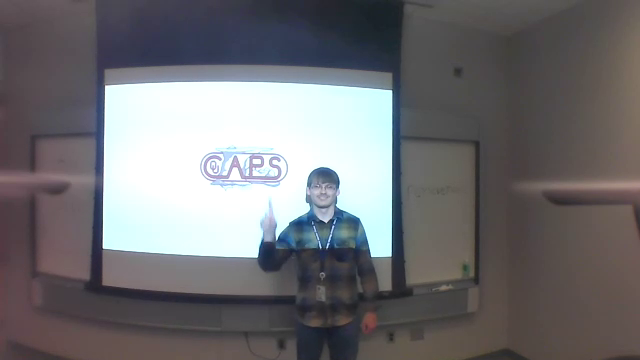up: (254, 197, 282, 233)
